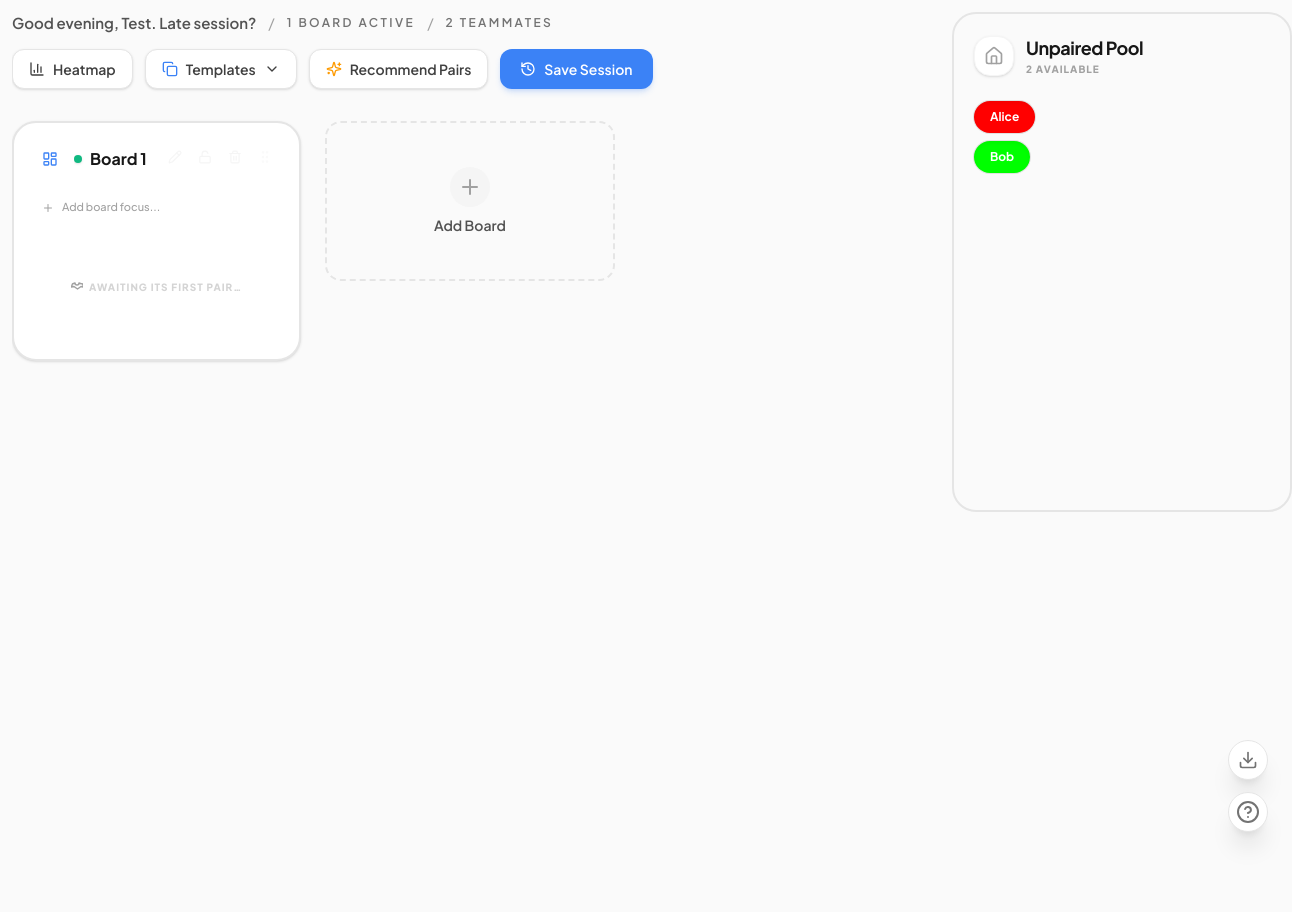
Test: PairingWorkspace Component › creates a new exempt board from the add board form
Click the button with aria-label "add new pairing board": (470,201) [325,121,615,281]
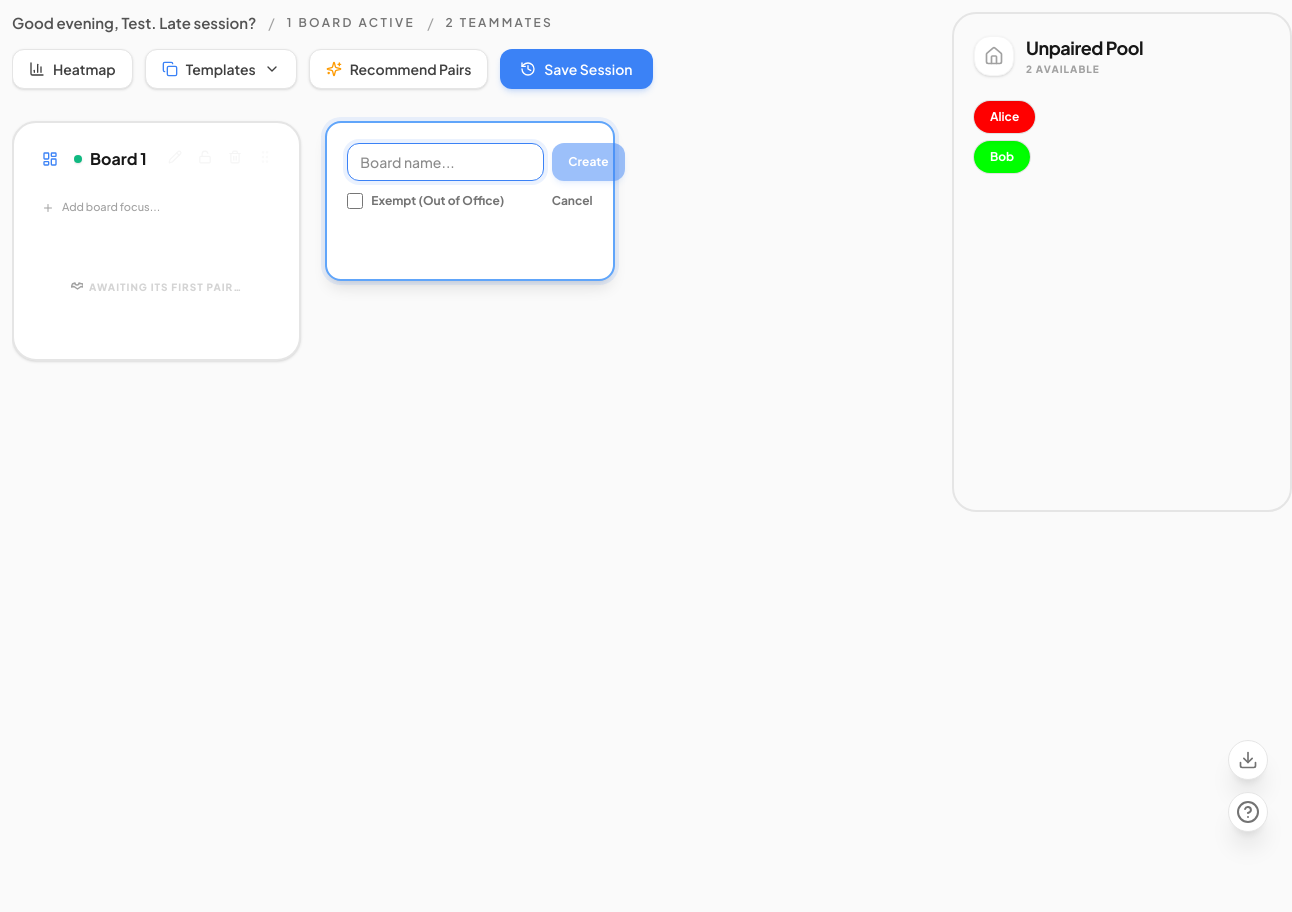
In the field with placeholder "Board name...": (446,162) [347,143,544,181], type "Platform"
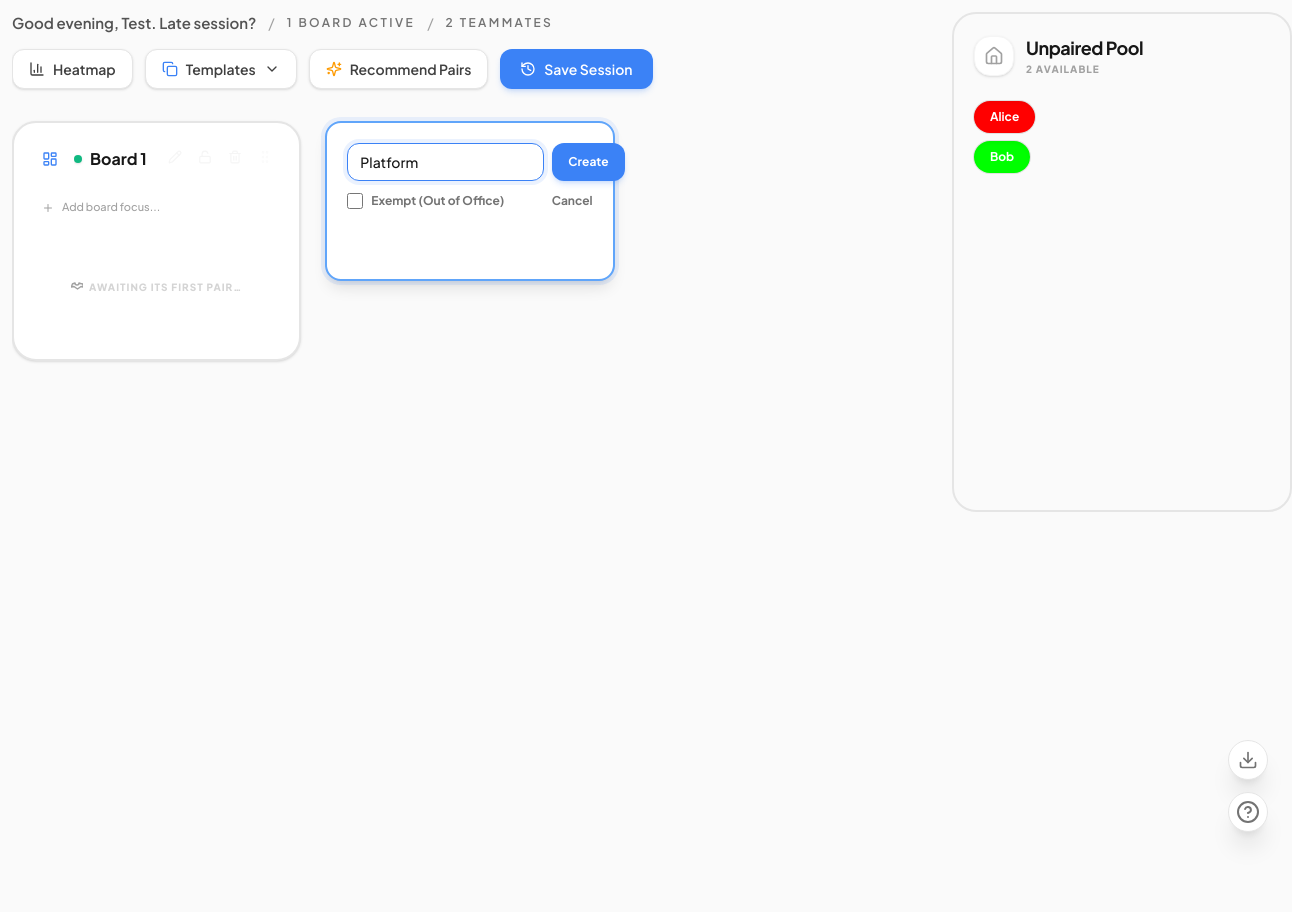
Click the checkbox labelled "Exempt (Out of Office)": (355,201) [347,193,363,209]
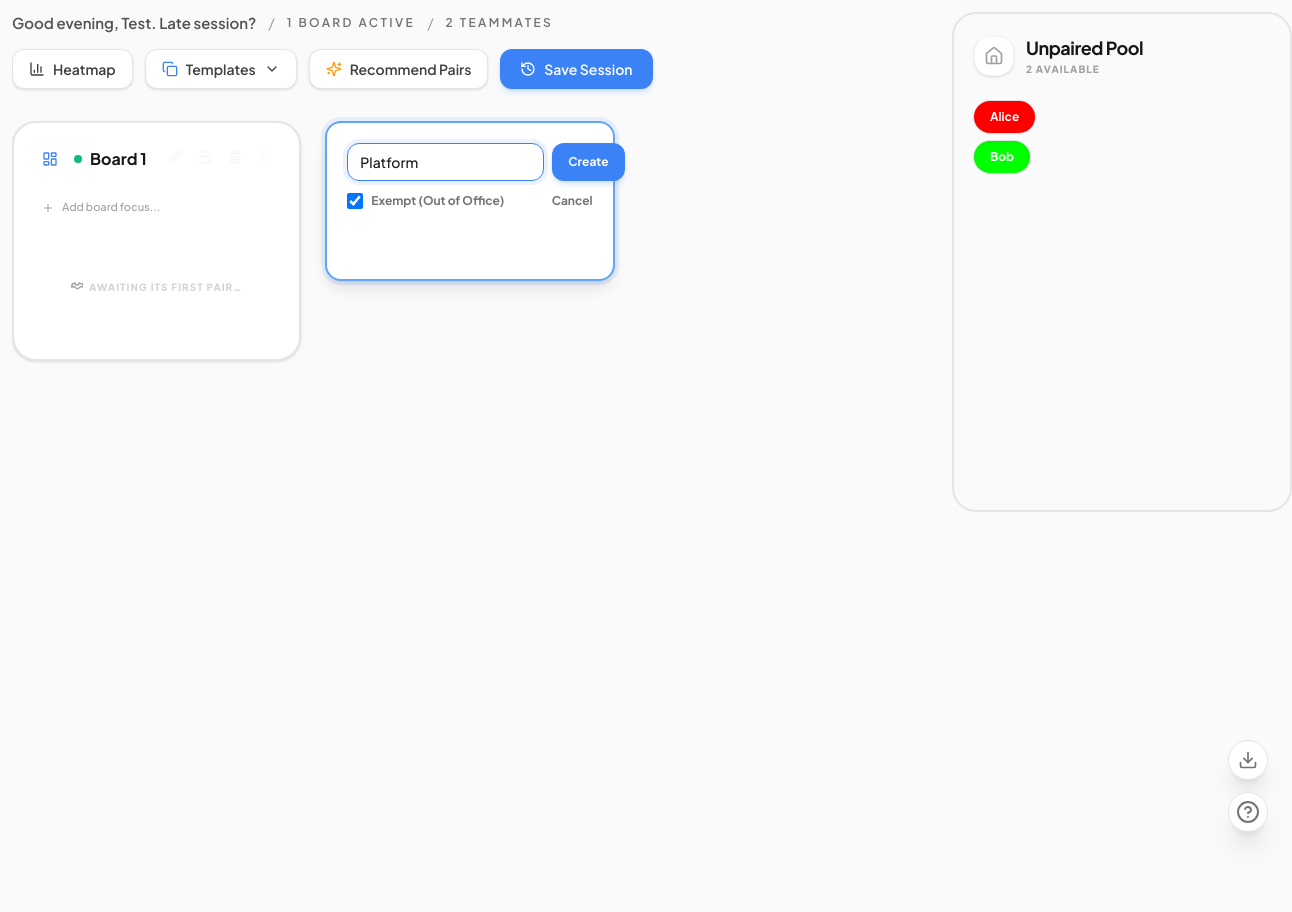
Click the button "Create": (588,162) [552,143,624,181]
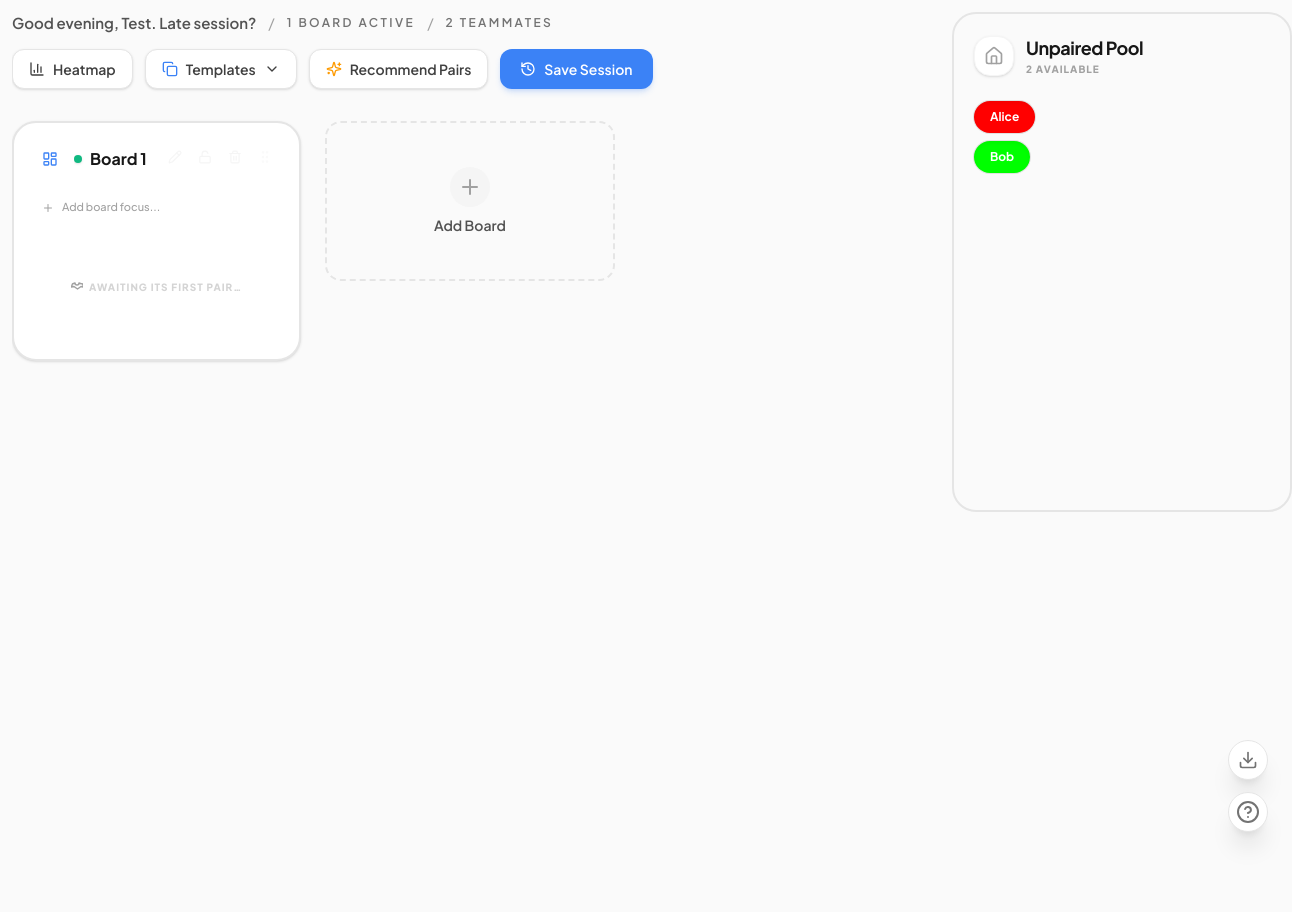
Expected: the button with aria-label "add new pairing board" is shown, [325,121,615,281]
